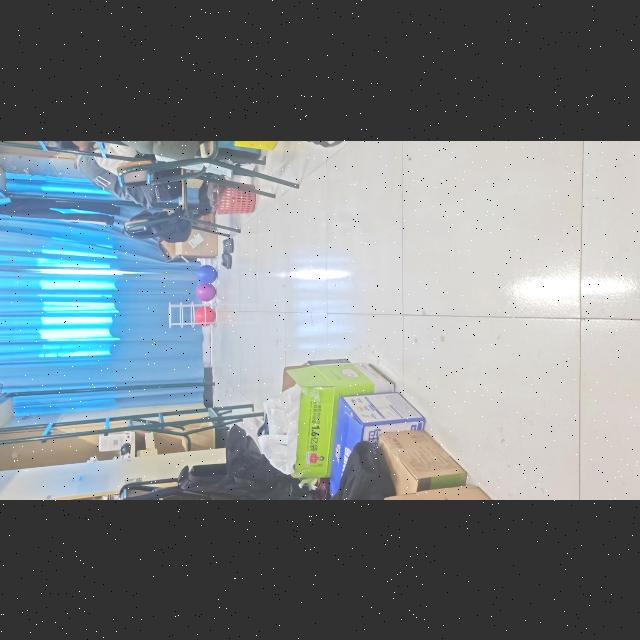B: (197, 264, 217, 283)
P: (196, 283, 216, 301)
R: (194, 305, 216, 326)
S: (168, 302, 216, 327)
